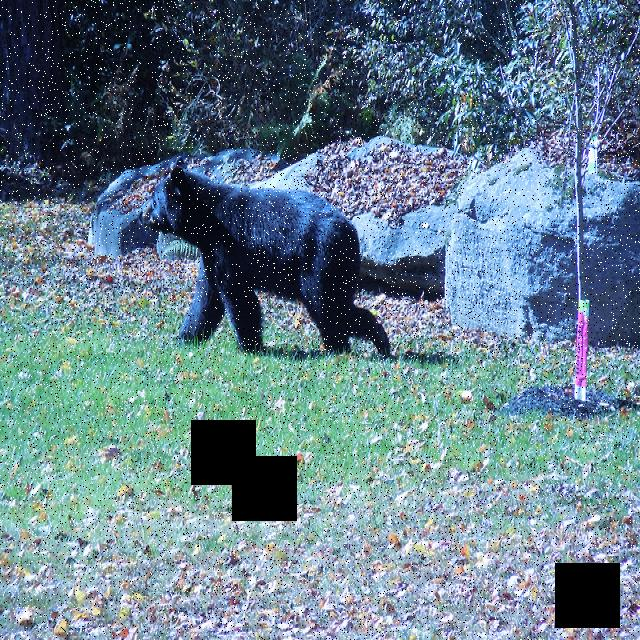Bear: (141, 158, 397, 366)
